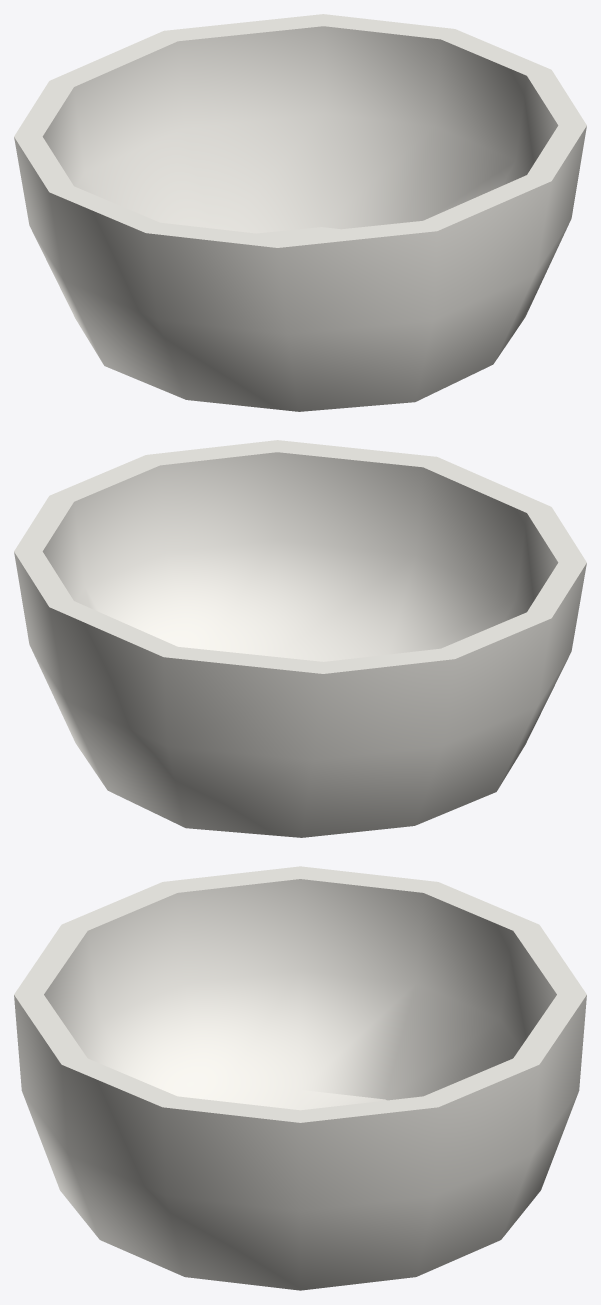
The model's file is SM_Baking_Dish_2_01.fbx.
3 views of the same model, one above another, from view 1: azimuth 30°, elevation 25°; view 2: azimuth 150°, elevation 25°; view 3: azimuth 270°, elevation 25° (orthographic). The views are drawn at different scales.
Visible parts, largest first — view 1: SM_Baking_Dish_2_01; view 2: SM_Baking_Dish_2_01; view 3: SM_Baking_Dish_2_01.
Boxes of the visible parts, box(x1,y1,x2,y2) form: SM_Baking_Dish_2_01: box(14, 14, 586, 411); SM_Baking_Dish_2_01: box(14, 440, 586, 837); SM_Baking_Dish_2_01: box(14, 866, 586, 1290).
Bounding box in the file's own units: 20.99 × 7.47 × 19.81.
